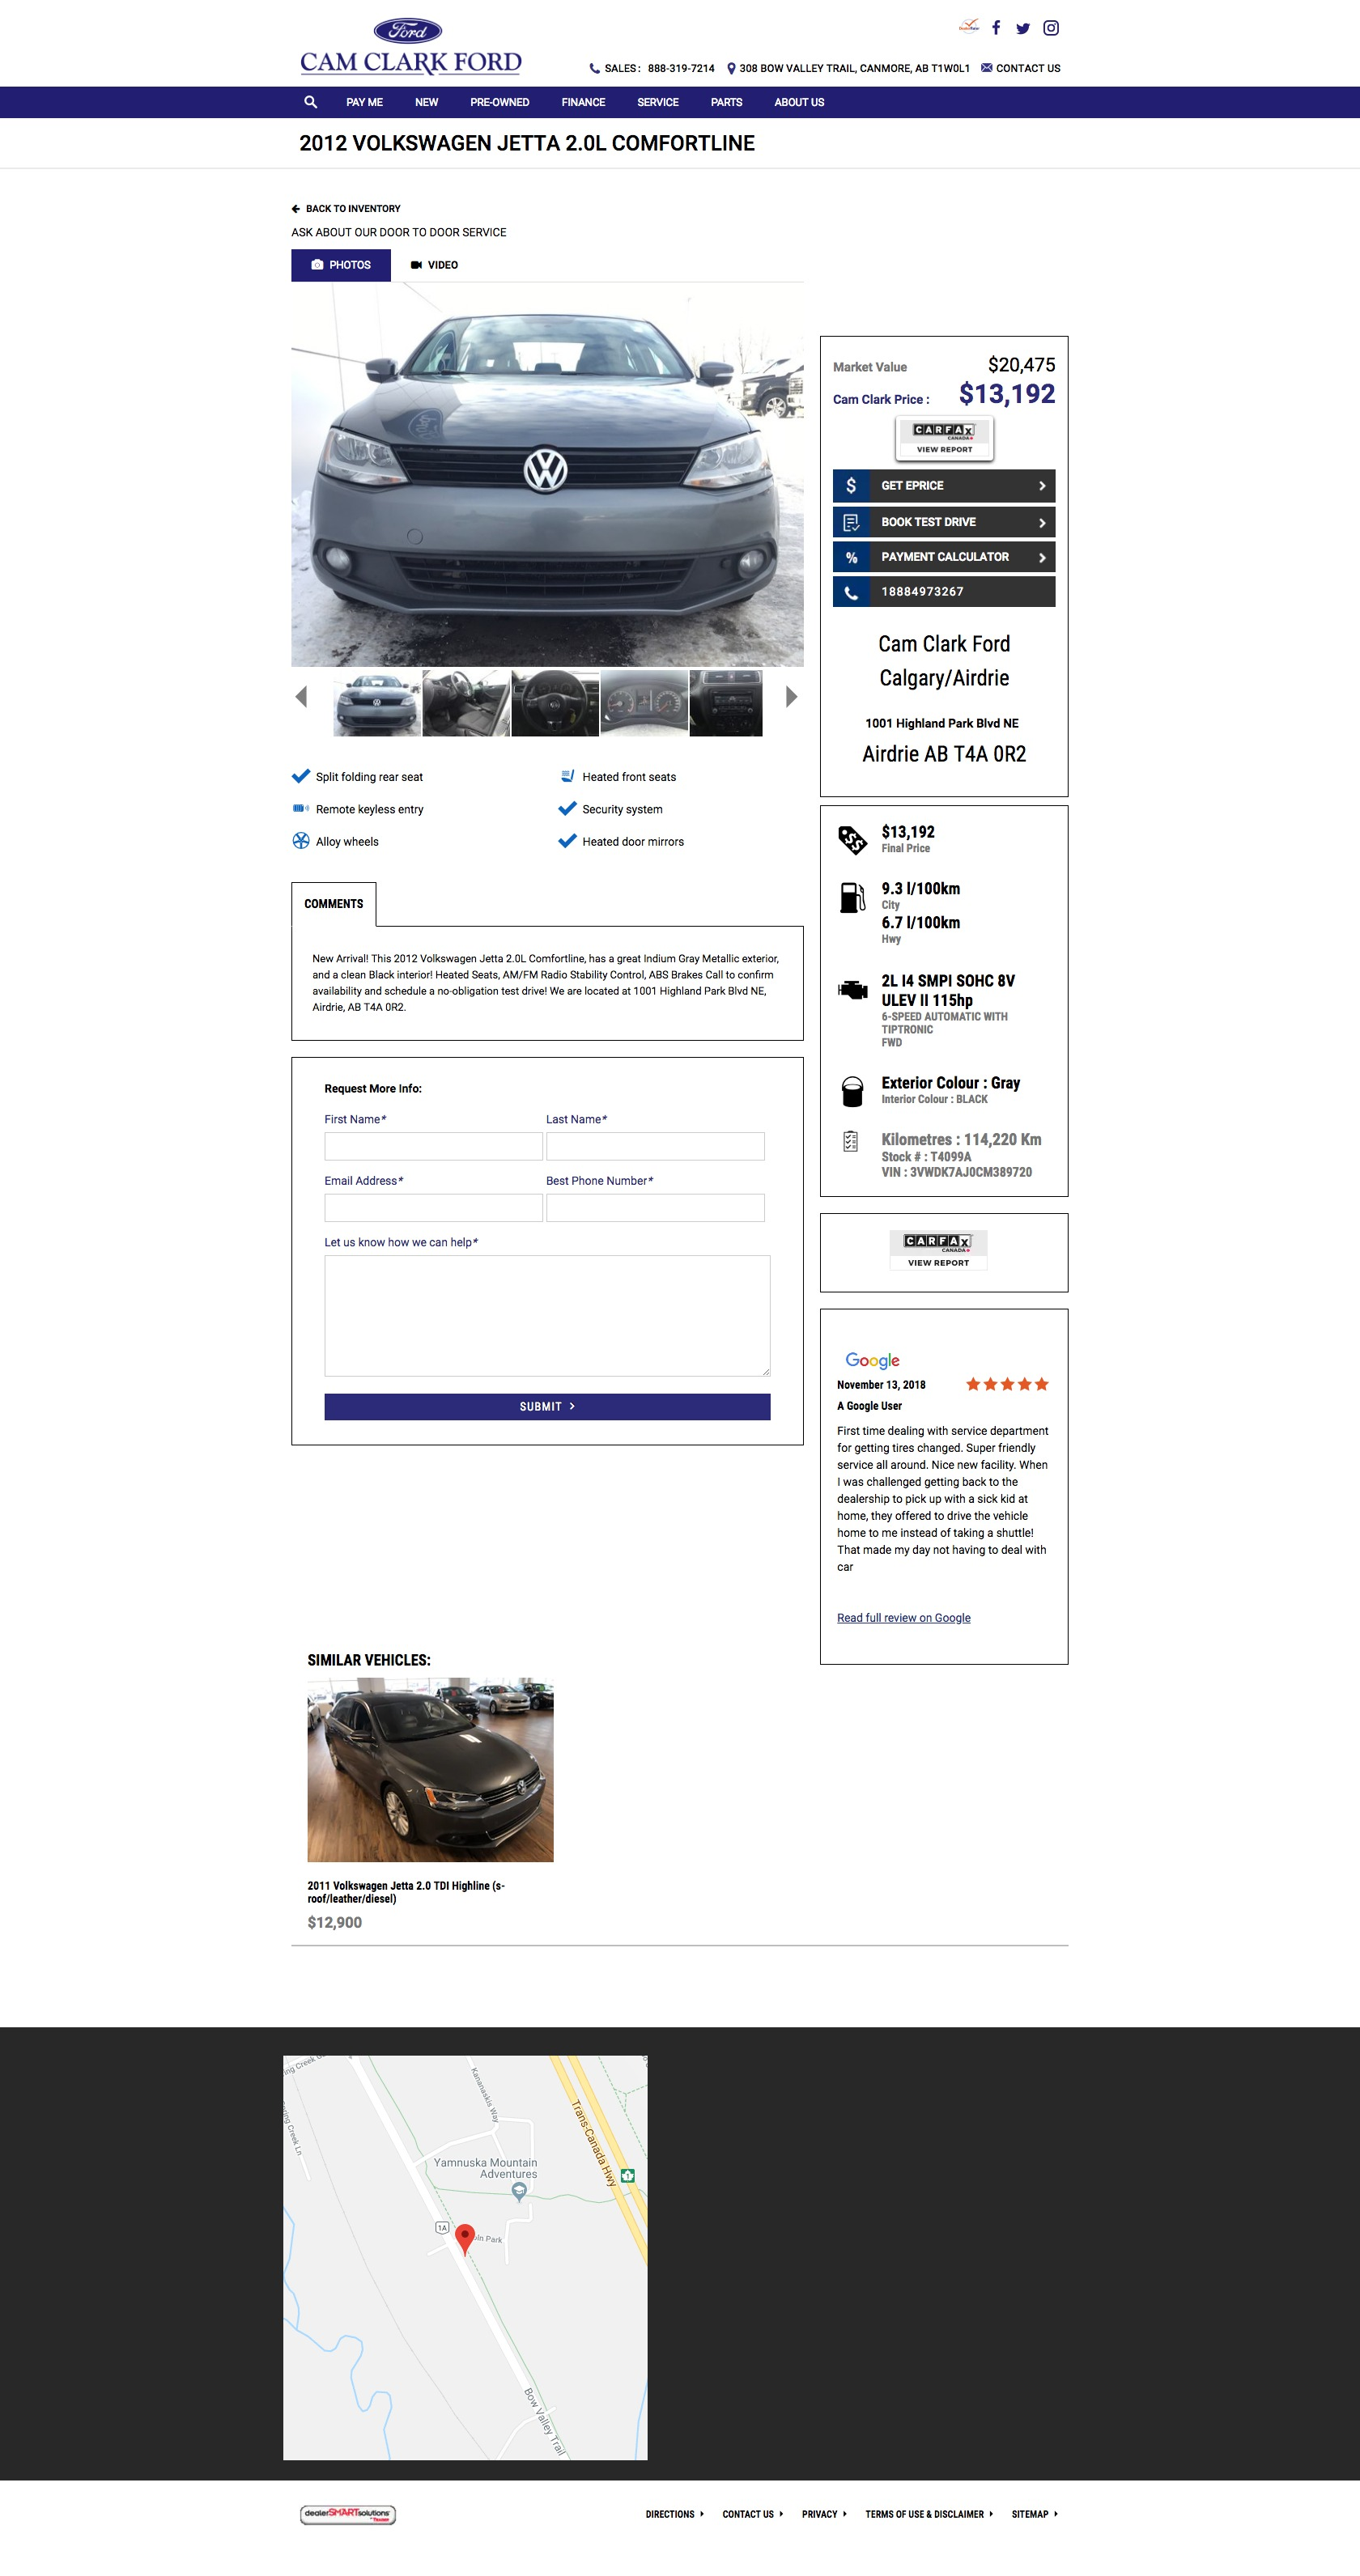car: (786, 687, 798, 709)
